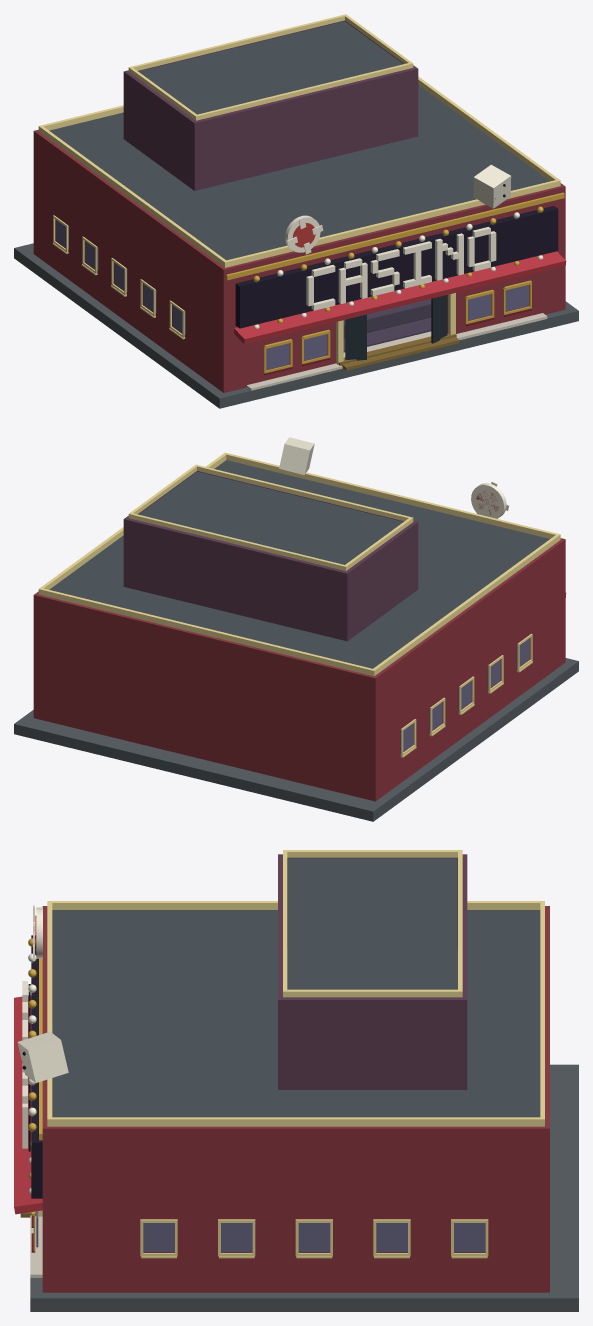
Rendered from casino-building.glb.
The picture shows the model from 3 angles, top to bottom: view 1: azimuth 30°, elevation 25°; view 2: azimuth 150°, elevation 25°; view 3: azimuth 270°, elevation 25°; orthographic projection. The views are drawn at different scales.
Parts seen in each view (by area): view 1: casino_cutaway_roof, casino_exterior_detail, casino_cutaway_upper, casino_hull_wall_left, casino_hull_wall_front, casino_foundation, casino_interior, casino_hull_wall_back; view 2: casino_cutaway_roof, casino_hull_wall_back, casino_hull_wall_left, casino_cutaway_upper, casino_foundation, casino_exterior_detail, casino_hull_wall_front; view 3: casino_cutaway_roof, casino_hull_wall_right, casino_cutaway_upper, casino_foundation, casino_exterior_detail, casino_hull_wall_front, casino_hull_wall_back.
Boxes of the visible parts, x1,y1,x2,y2 form: casino_cutaway_roof: (38,14,560,267); casino_exterior_detail: (52,164,566,375); casino_cutaway_upper: (123,20,418,190); casino_hull_wall_left: (37,132,223,390); casino_hull_wall_front: (220,184,565,392); casino_foundation: (14,243,578,408); casino_interior: (343,299,431,352); casino_hull_wall_back: (33,129,39,255); casino_cutaway_roof: (38,452,560,676); casino_hull_wall_back: (33,592,378,801); casino_hull_wall_left: (376,541,562,798); casino_cutaway_upper: (123,471,418,641); casino_foundation: (14,658,578,821); casino_exterior_detail: (279,437,566,757); casino_hull_wall_front: (559,538,565,664); casino_cutaway_roof: (47,850,544,1126); casino_hull_wall_right: (51,1126,540,1292); casino_cutaway_upper: (278,854,467,1089); casino_foundation: (20,1064,578,1311); casino_exterior_detail: (14,905,488,1258); casino_hull_wall_front: (42,906,51,1292); casino_hull_wall_back: (541,906,549,1292).
Bounding box in the file's own units: 22.8 × 12.47 × 23.28.
